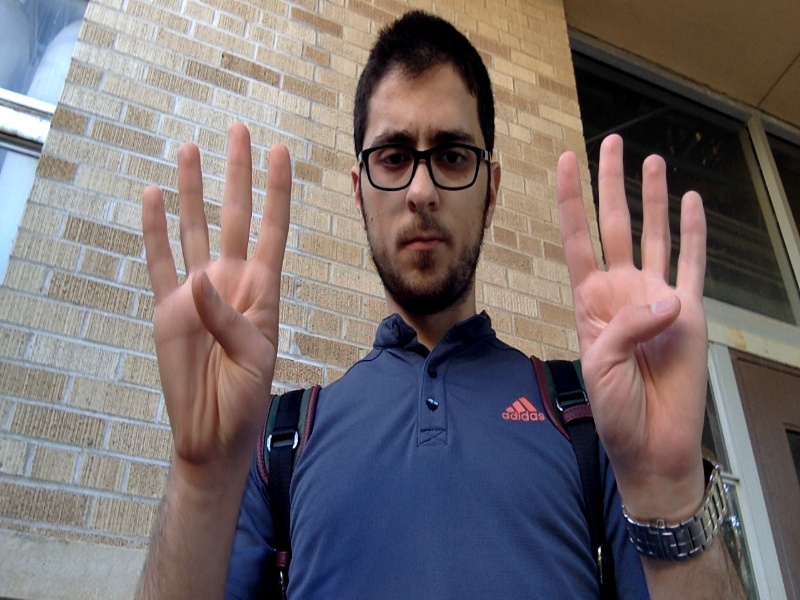4-hand: (555, 133, 706, 484), (144, 123, 290, 462)
